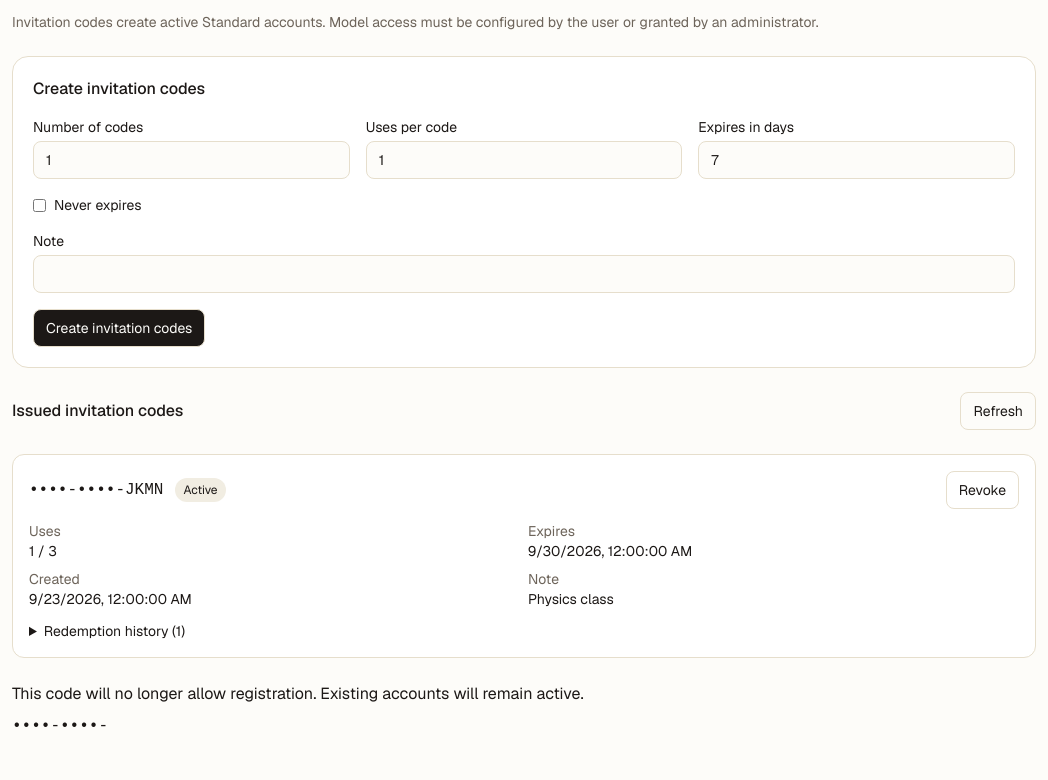
Scenario: lists masked codes, status, use counts, expiry, notes and redemption history
Expected: the text "••••-••••-JKMN" is shown, [29,478,163,502]
Expected: the text "Active" is shown, [175,478,226,502]
Click the heading "Redemption history (1)". click: (114, 631)
box: [44,622,185,640]
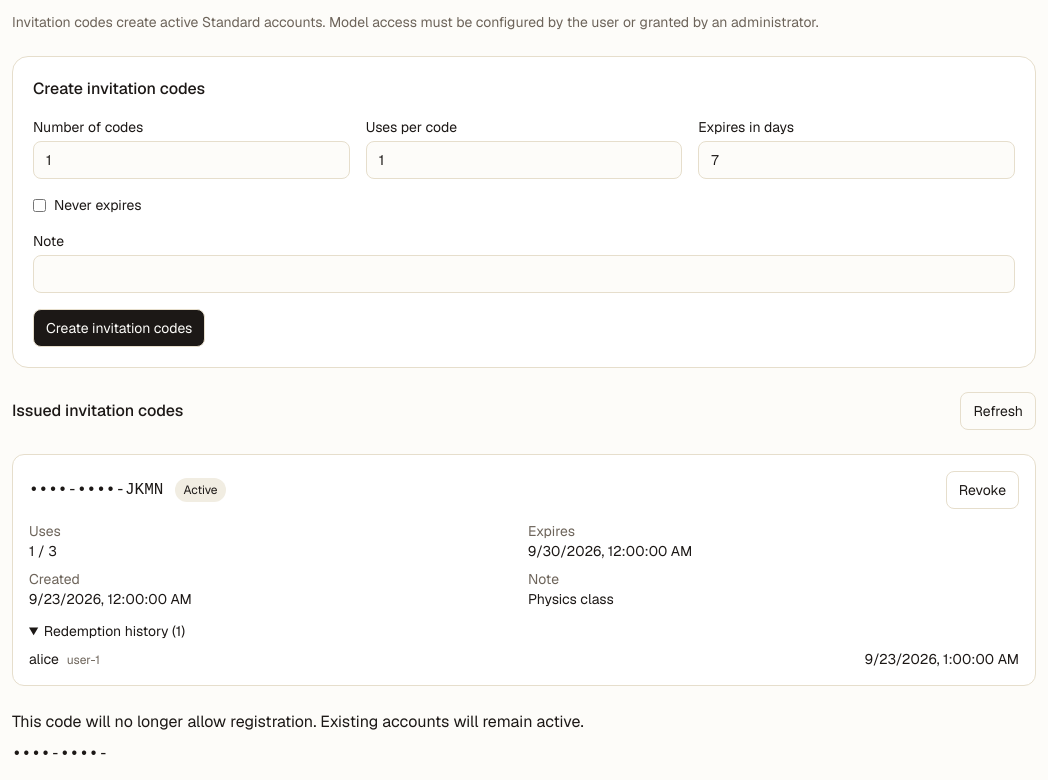
Expected: the text "alice" is shown, [29,650,59,668]
Expected: the text "user-1" is shown, [67,652,100,668]
